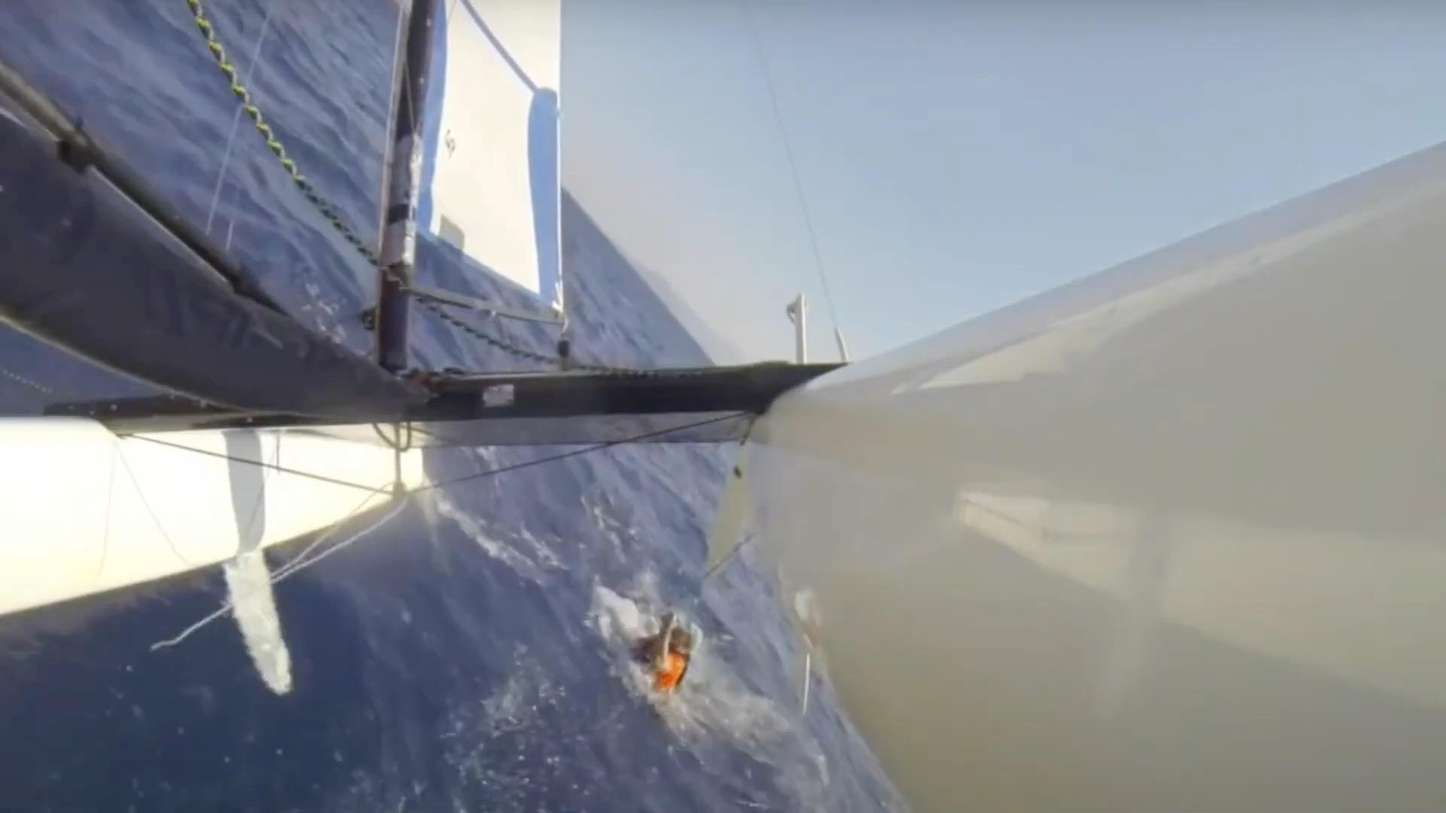boat: (0, 0, 1446, 813)
land: (613, 250, 751, 367)
person: (621, 613, 703, 701)
sea: (0, 443, 907, 813), (0, 0, 406, 358), (410, 196, 708, 373)
sky: (561, 0, 1446, 364)
